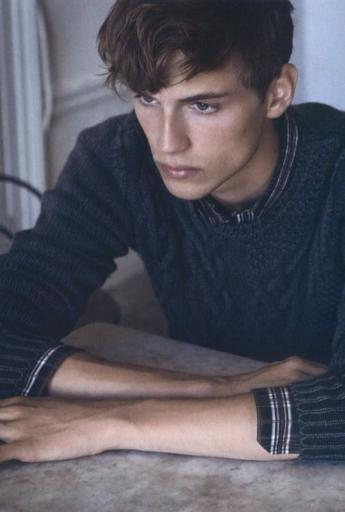left_eye: (188, 100, 228, 118)
left_lip_corner: (193, 163, 208, 175)
right_eye: (137, 92, 162, 106)
right_lip_corner: (157, 160, 169, 172)
